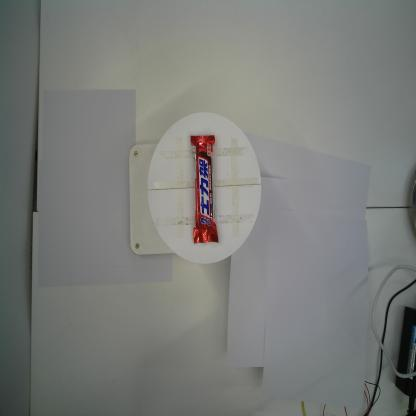Chocolate: (188, 133, 221, 246)
